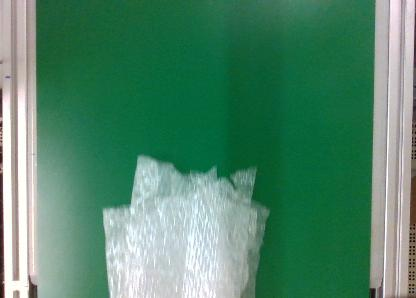Others: (101, 155, 269, 298)
